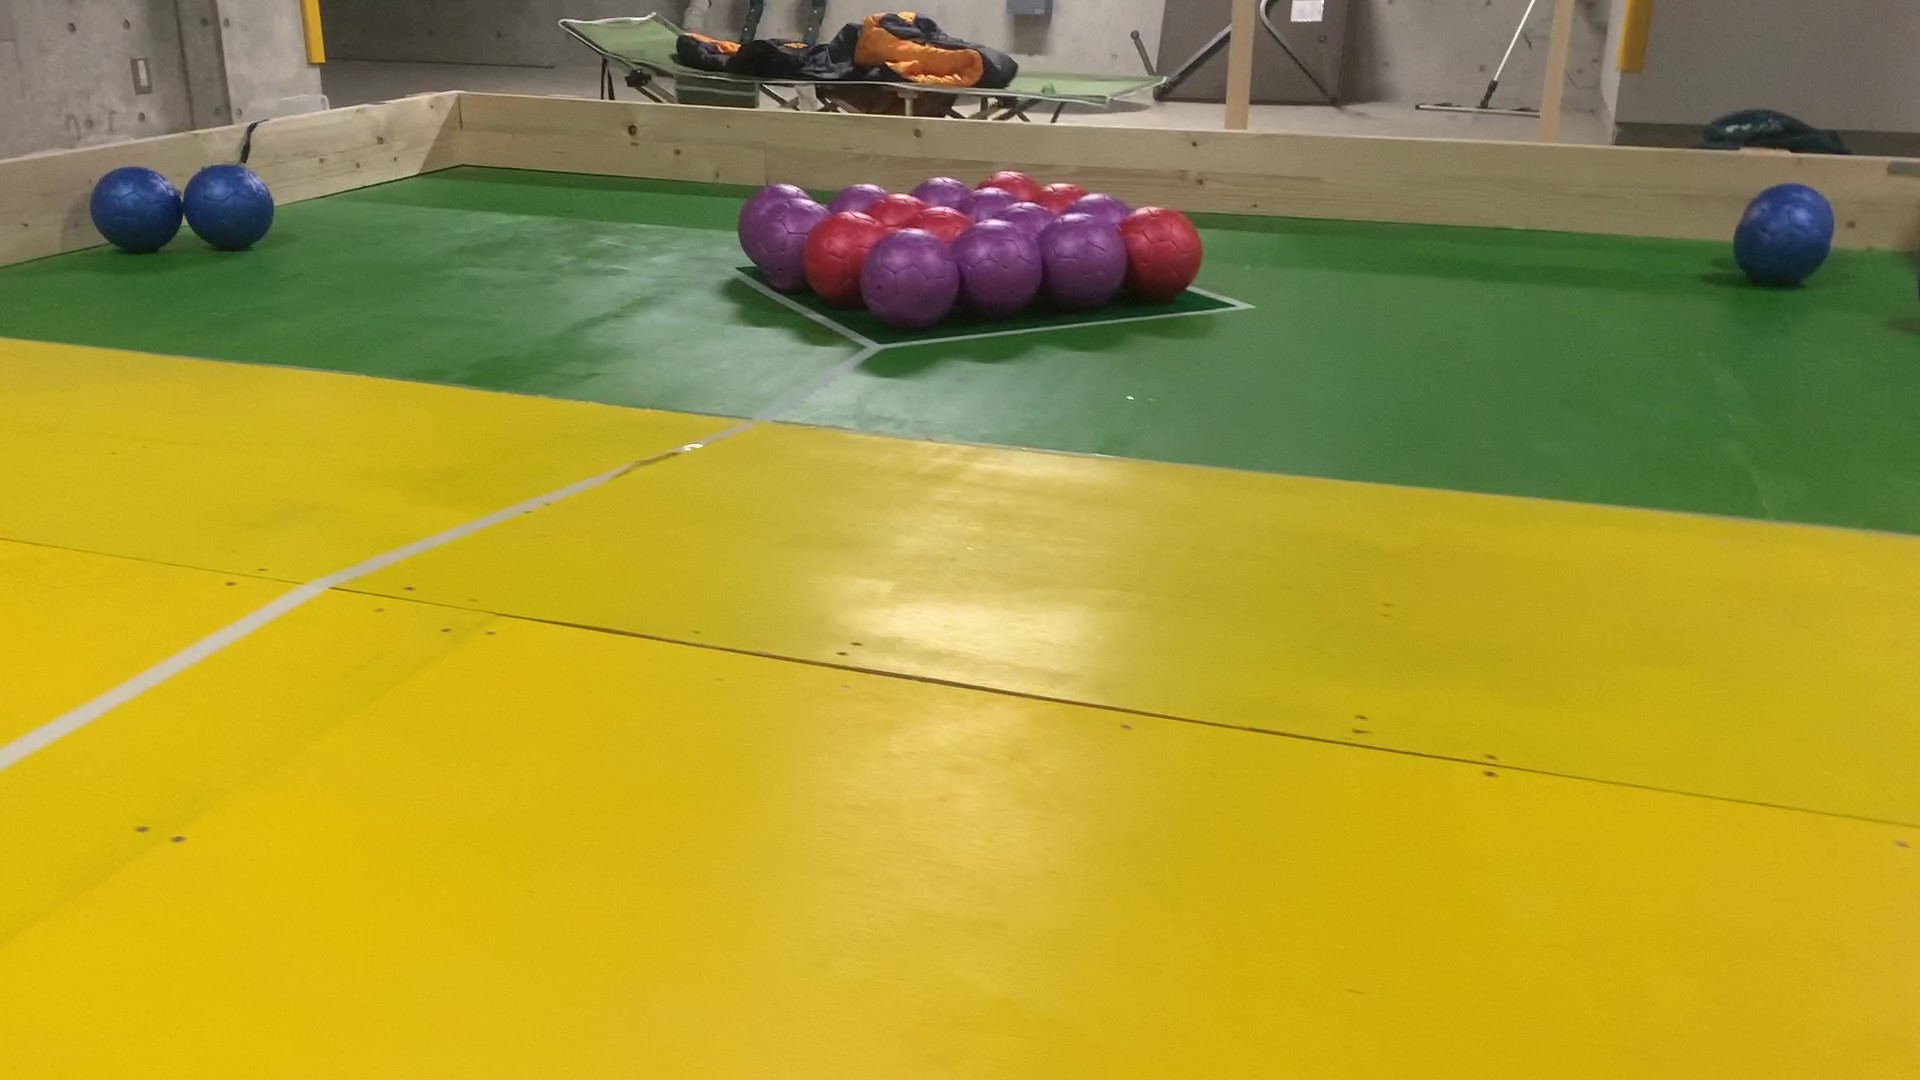blue: (94, 175, 173, 245), (189, 179, 266, 245), (1743, 214, 1812, 278), (1766, 182, 1822, 208)
purple: (878, 236, 945, 323), (963, 237, 1026, 302), (1055, 222, 1114, 290), (767, 211, 806, 289), (744, 195, 760, 266), (968, 194, 1014, 216), (1069, 196, 1129, 214), (915, 179, 965, 199), (832, 183, 876, 206), (1007, 208, 1048, 228)
red: (1129, 218, 1195, 290), (811, 223, 858, 299), (986, 166, 1035, 198), (920, 212, 972, 236), (872, 196, 914, 220), (1040, 183, 1088, 204)
